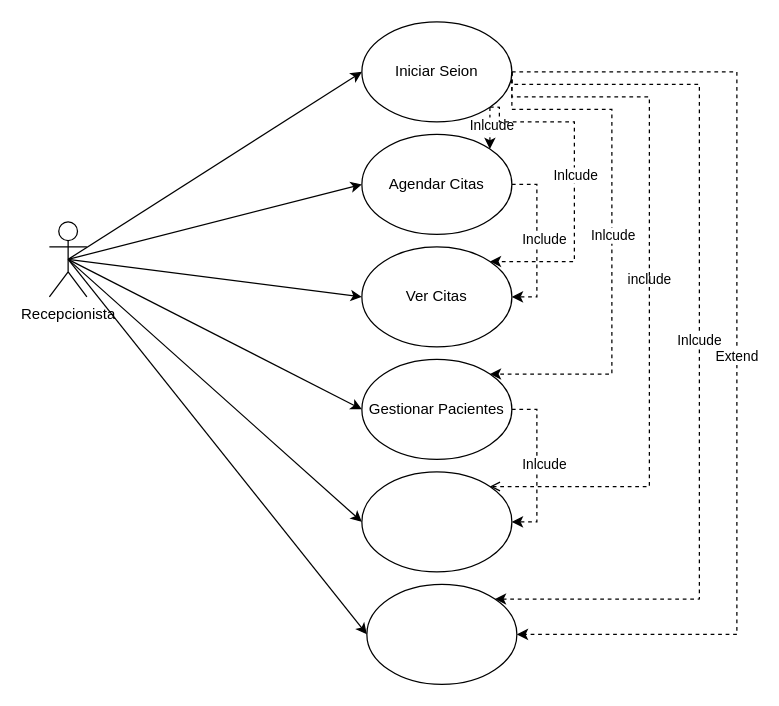
Some shapes in this 779 by 706 pixel diagram are drawn without their labels. Each missing label, with the centre of its shape:
Cerrar Sesion: the point at 441,633
Ver Pacientes: the point at 436,521
